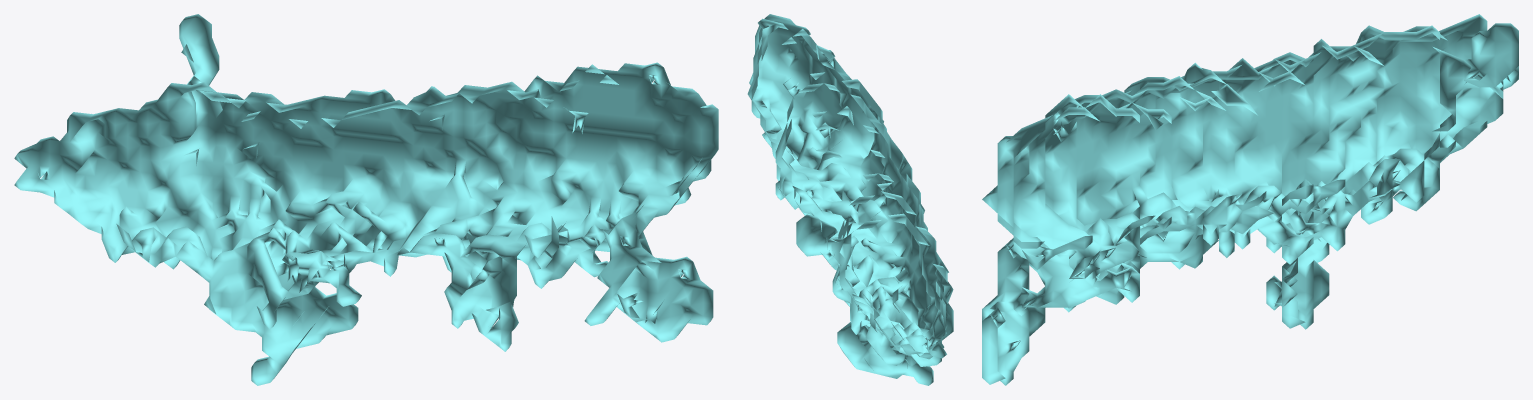
File: osteocyte_136.glb
The picture shows the model from 3 angles, left to right: view 1: azimuth 30°, elevation 25°; view 2: azimuth 150°, elevation 25°; view 3: azimuth 270°, elevation 25°; orthographic projection. The views are drawn at different scales.
Visible parts, largest first — view 1: osteocyte_136; view 2: osteocyte_136; view 3: osteocyte_136.
Boxes of the visible parts, left/top/right/bottom form: osteocyte_136: left=14, top=14, right=718, bottom=385; osteocyte_136: left=747, top=14, right=953, bottom=385; osteocyte_136: left=982, top=14, right=1518, bottom=385.
Bounding box in the file's own units: 17.82 × 11.56 × 16.37.
